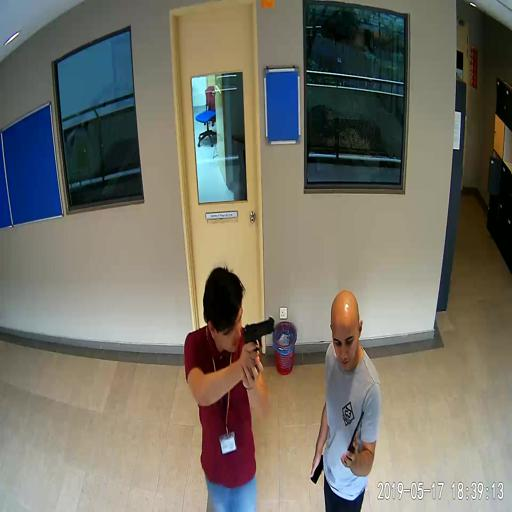pistol: (242, 316, 274, 369)
